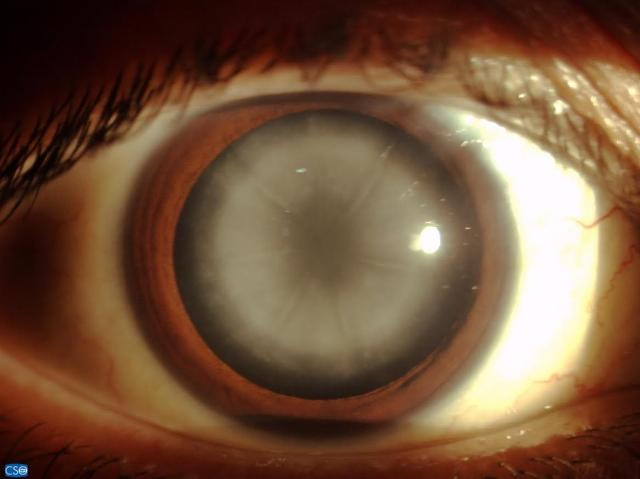eye: (122, 92, 524, 446)
